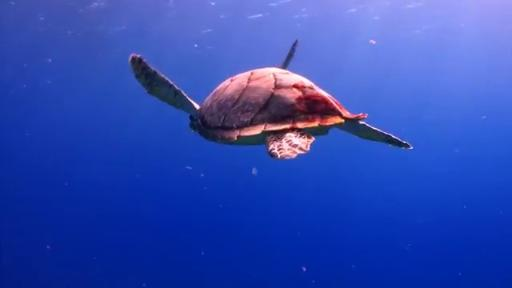Fish: (130, 41, 411, 159)
